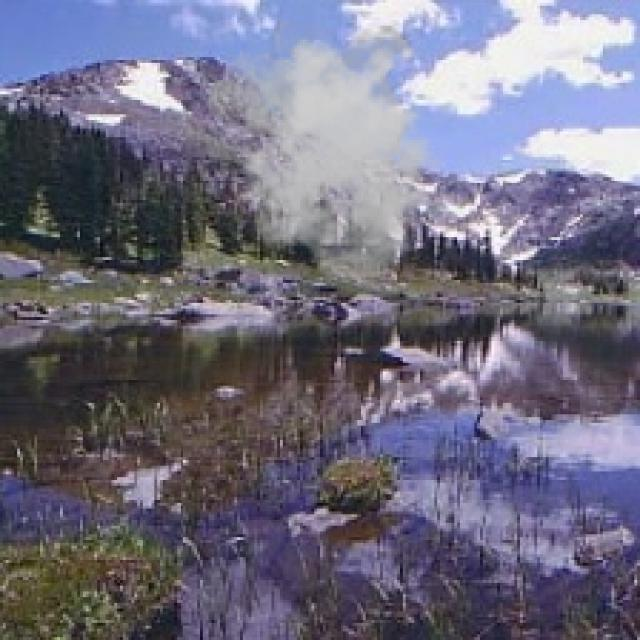smoke: (209, 20, 457, 283)
